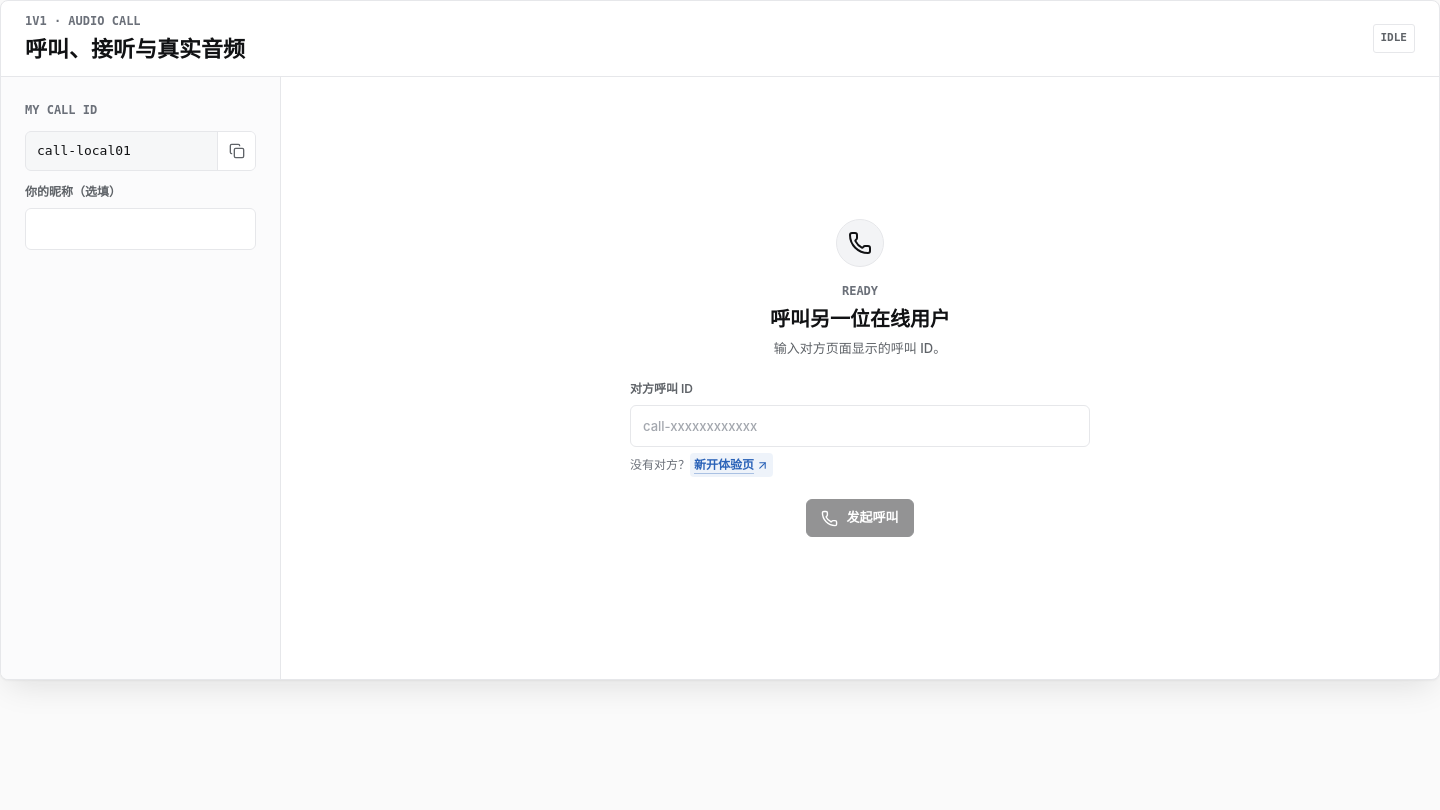
Test: OneToOneCallScene › 页面空闲 3 秒后拨号不显示 33s，发送中无倒计时，成功后首次显示 30s
In the field labelled "对方呼叫 ID": coordinates (860, 426) [630, 405, 1090, 447], type "call-remote02"
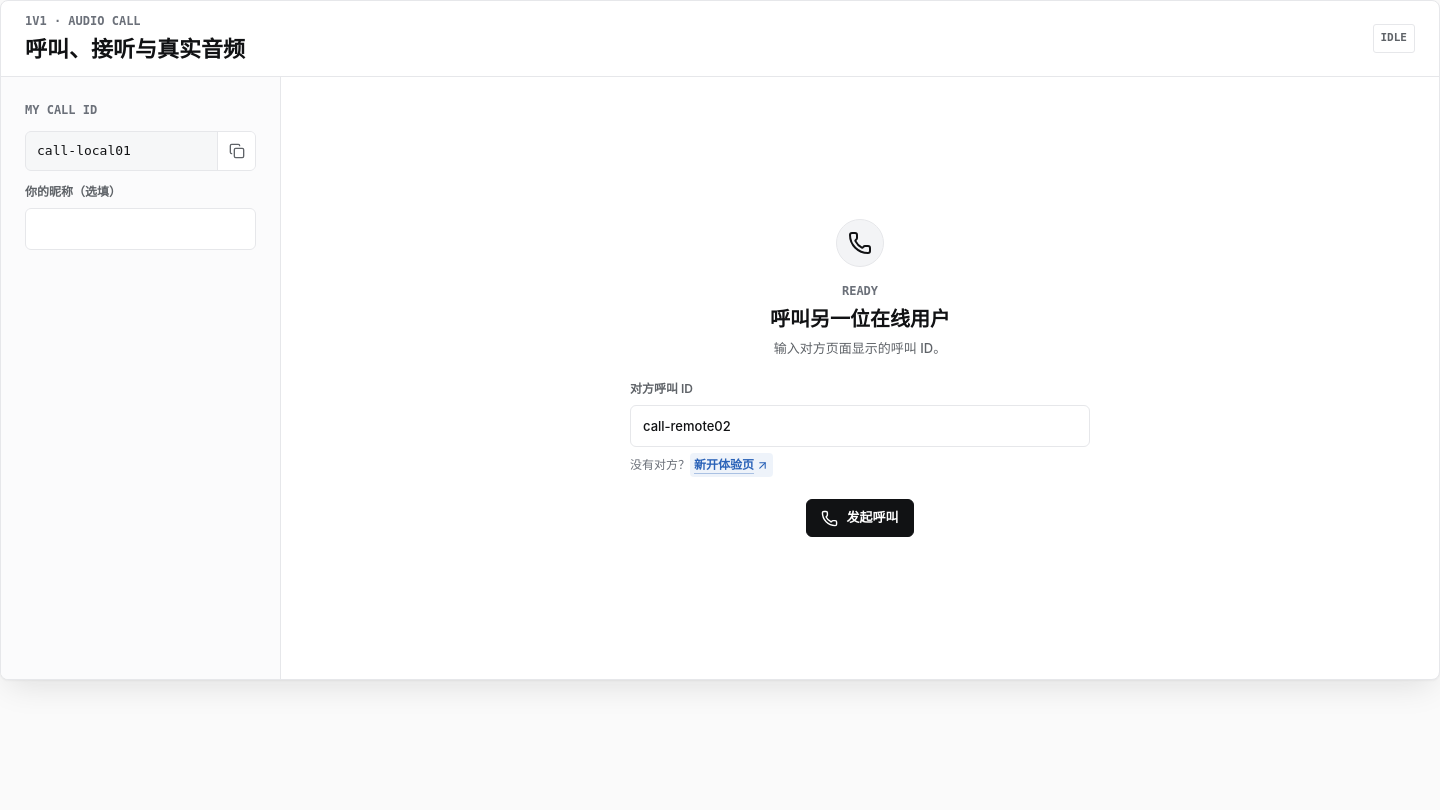
Click the button "发起呼叫": coordinates (860, 518) [806, 499, 914, 537]
Wait 4000 ms
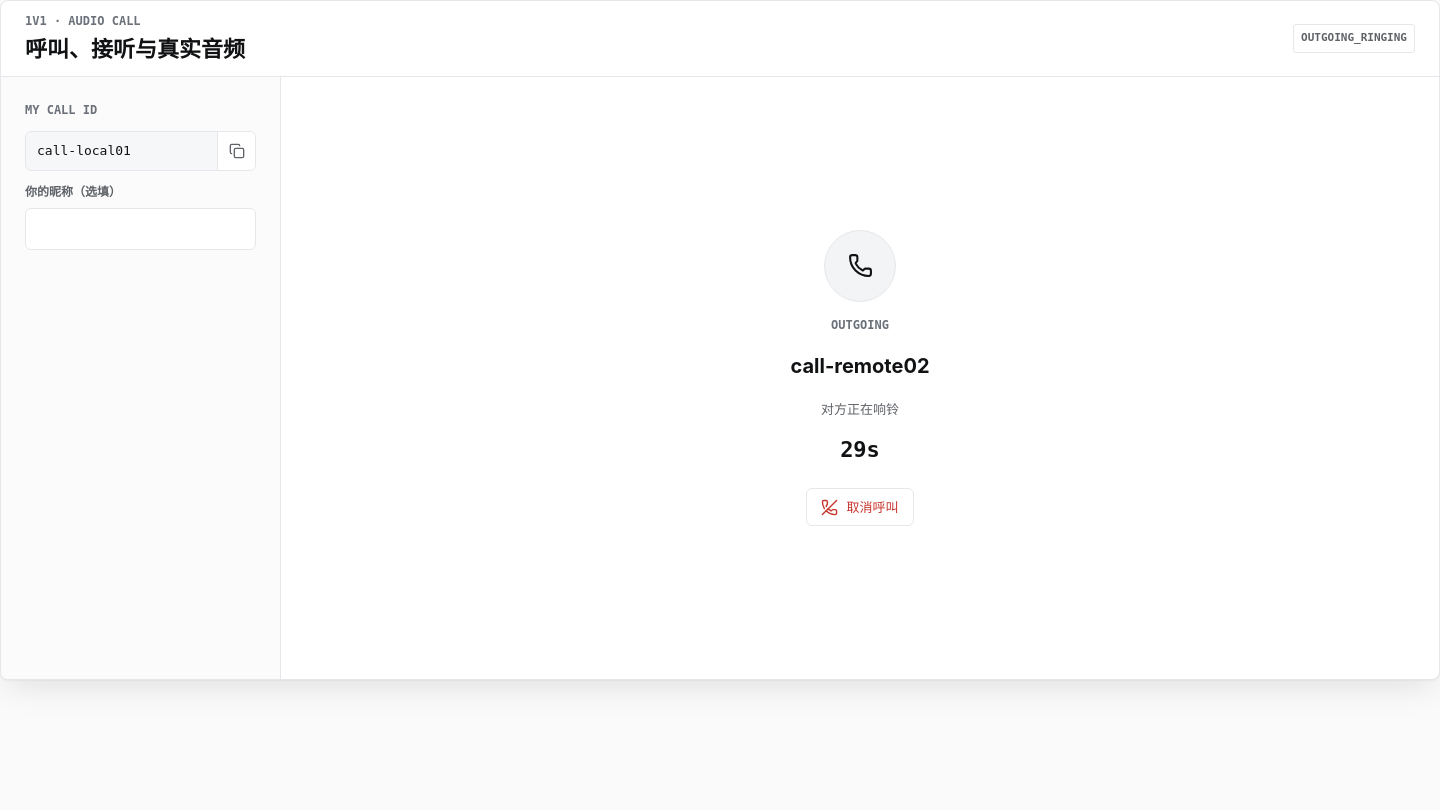
Expected: the text "对方正在响铃" is shown, [821, 400, 899, 419]
Expected: the text "29s" is shown, [840, 433, 880, 466]
